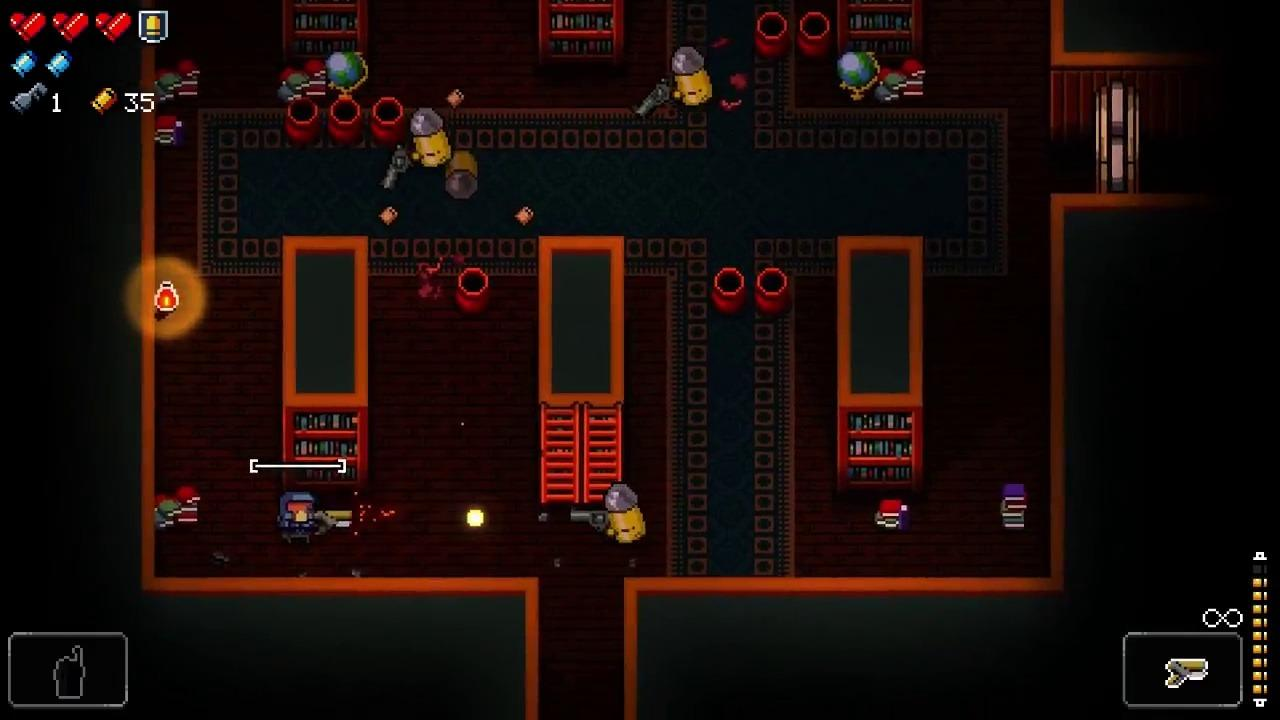bullet_kin: (605, 481, 648, 544), (670, 46, 714, 107), (410, 106, 452, 168)
dead_bullet_kin: (447, 149, 480, 201)
locked_door: (1096, 78, 1139, 195)
player: (278, 490, 315, 549)
